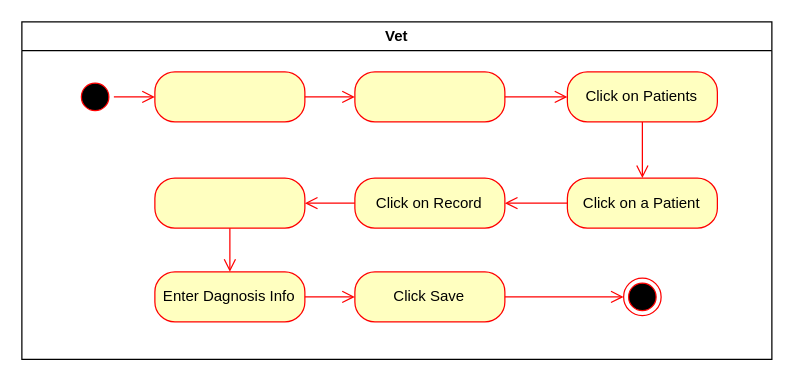
This 794x381 diagram has some shape labels left out. Here are the shapes that lost their labels. From the top down, the centre of each, then its label:
[229,96]: Login
[429,96]: View Dashboard
[229,202]: Click on Add Diagnosis
